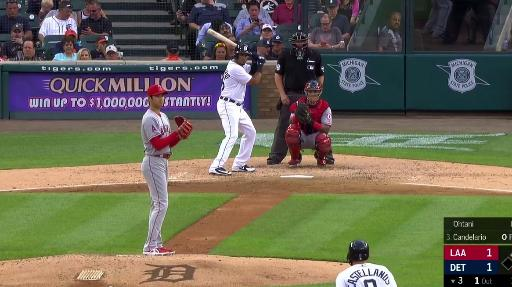pitcher: (141, 84, 194, 255)
